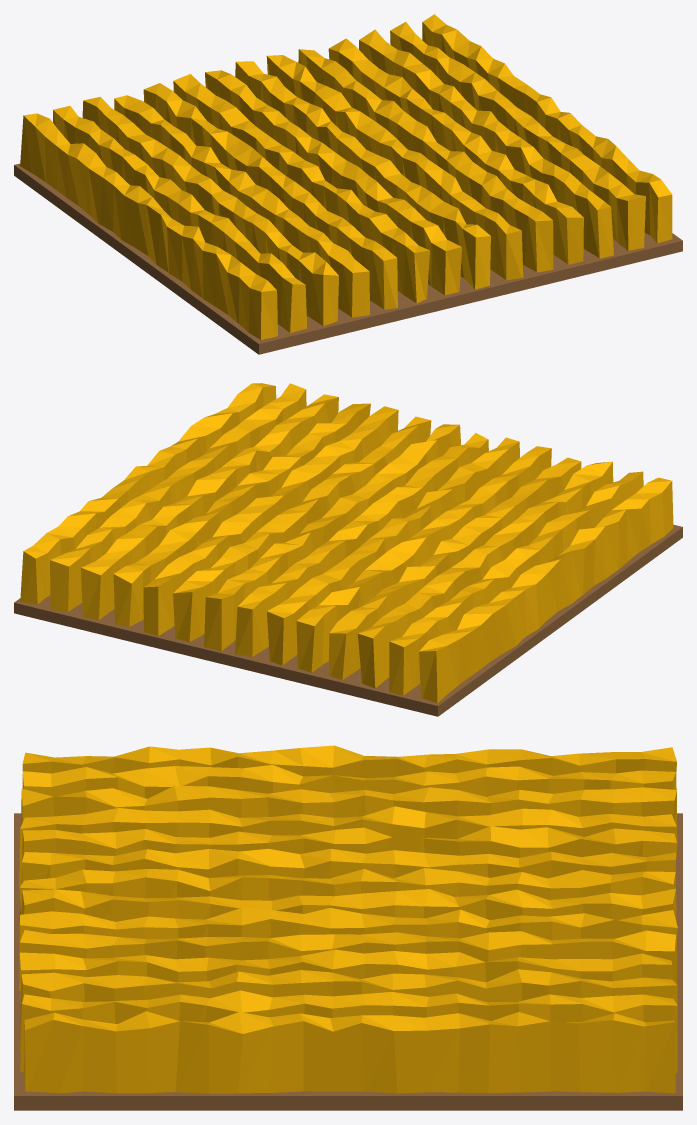
File: Field.glb
The picture shows the model from 3 angles, top to bottom: view 1: azimuth 30°, elevation 25°; view 2: azimuth 150°, elevation 25°; view 3: azimuth 270°, elevation 25°; orthographic projection. The views are drawn at different scales.
Parts seen in each view (by area): view 1: Field; view 2: Field; view 3: Field.
Part boxes in pixels (x1=…): Field: x1=14, y1=14, x2=682, y2=354; Field: x1=14, y1=383, x2=682, y2=716; Field: x1=14, y1=745, x2=682, y2=1110.
Bounding box in the file's own units: 200 × 28.36 × 200.
1 material, 1 textured.
